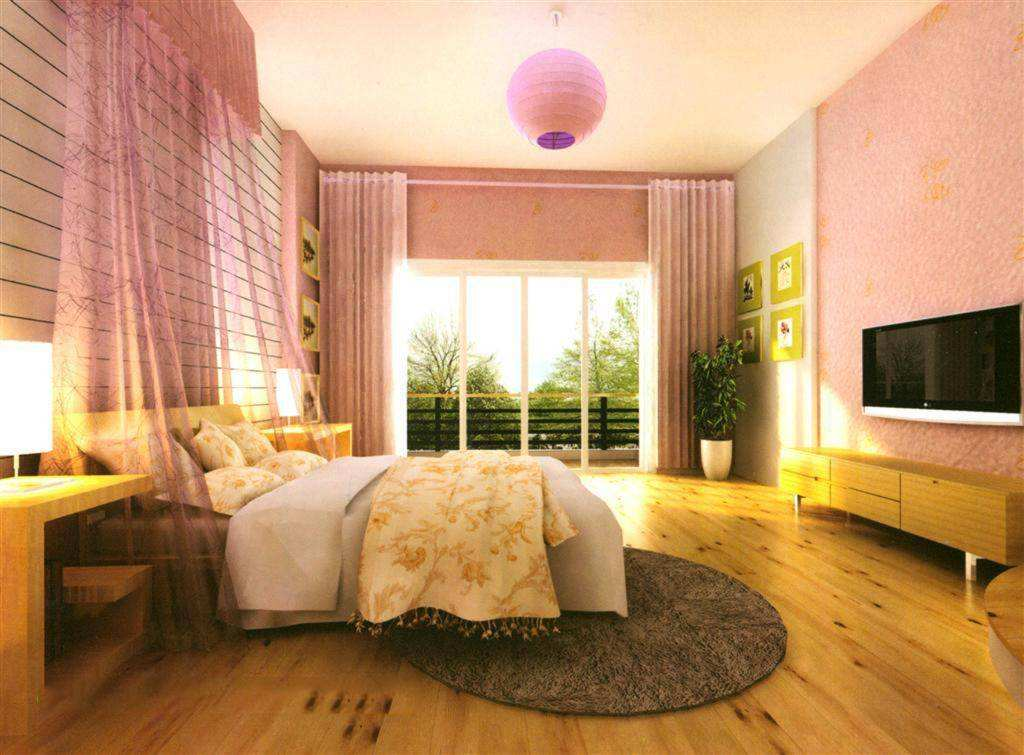床: (196, 449, 624, 635)
枕头: (156, 419, 340, 507)
灯: (505, 32, 618, 161), (3, 334, 58, 508), (266, 365, 314, 439)
